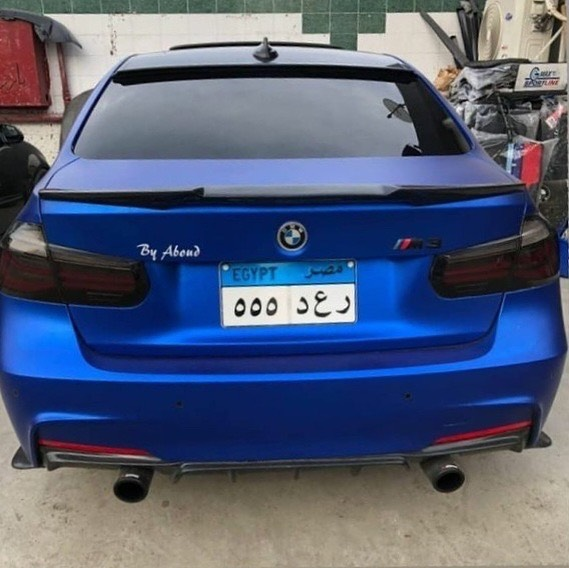carpl: (208, 253, 362, 327)
